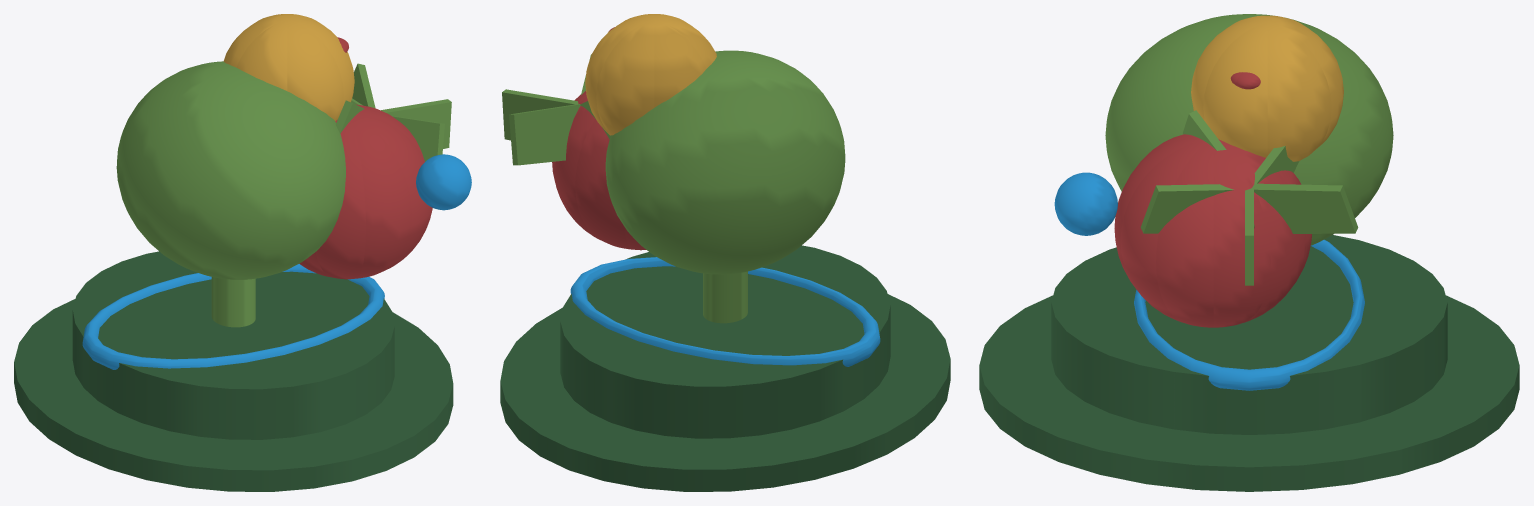
File: 0095_植物图鉴_绣球.glb
3 renders of one model, left to right at view 1: azimuth 30°, elevation 25°; view 2: azimuth 150°, elevation 25°; view 3: azimuth 270°, elevation 25°, orthographic. The views are drawn at different scales.
Visible parts, largest first — view 1: card_0095; view 2: card_0095; view 3: card_0095.
Boxes of the visible parts, bbox=[...] form: card_0095: bbox=[14, 14, 471, 491]; card_0095: bbox=[500, 14, 950, 491]; card_0095: bbox=[979, 14, 1519, 491].
Size of the model in its own units: 1.19 by 1 by 1.22.
